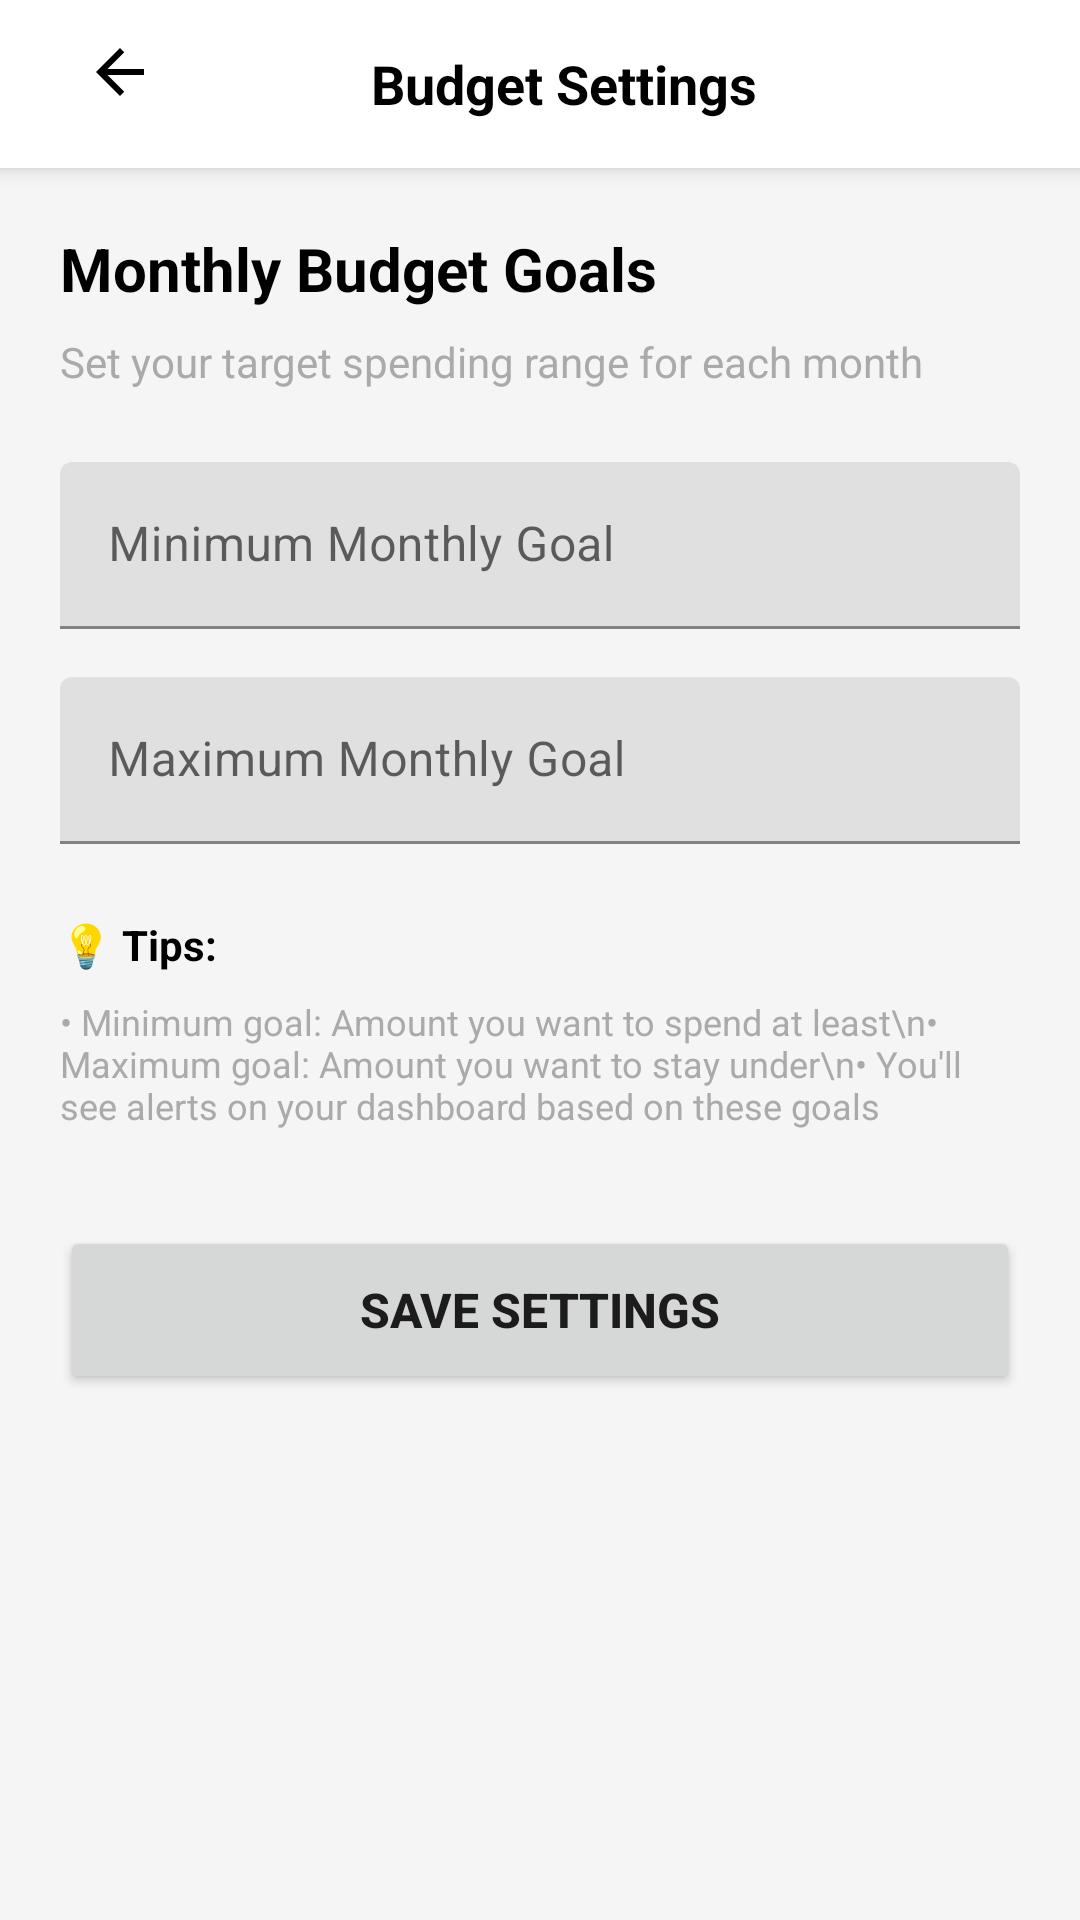

Icons on this 1080x1920 Android screen, each with its box as (x1, y1, x2, y2):
arrow back: (96, 48, 144, 96)
